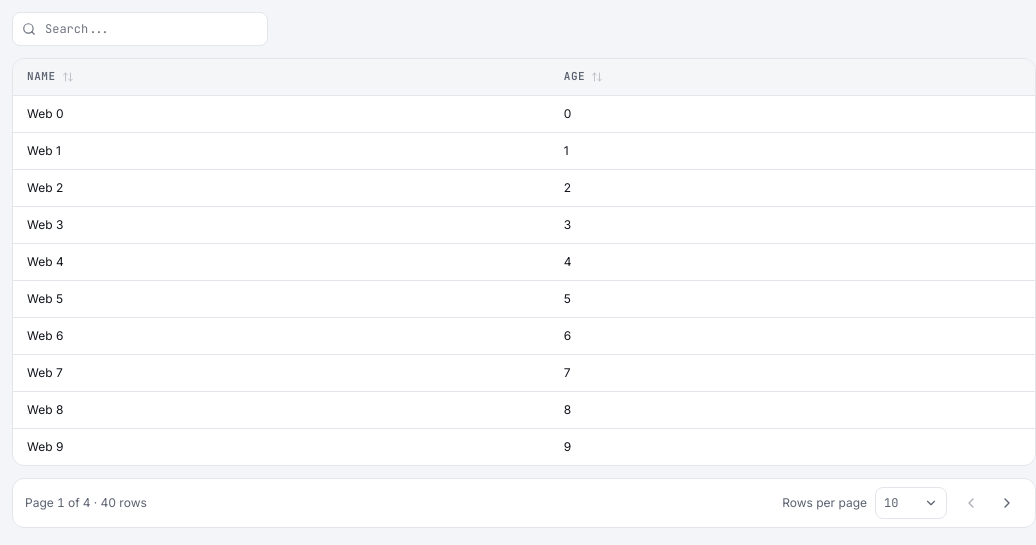
it: DataTable › reports the filtered row count, not the unfiltered total
Type "web" into the field with placeholder "Search...".
click(140, 29); type("web")  # box [12,12,268,46]
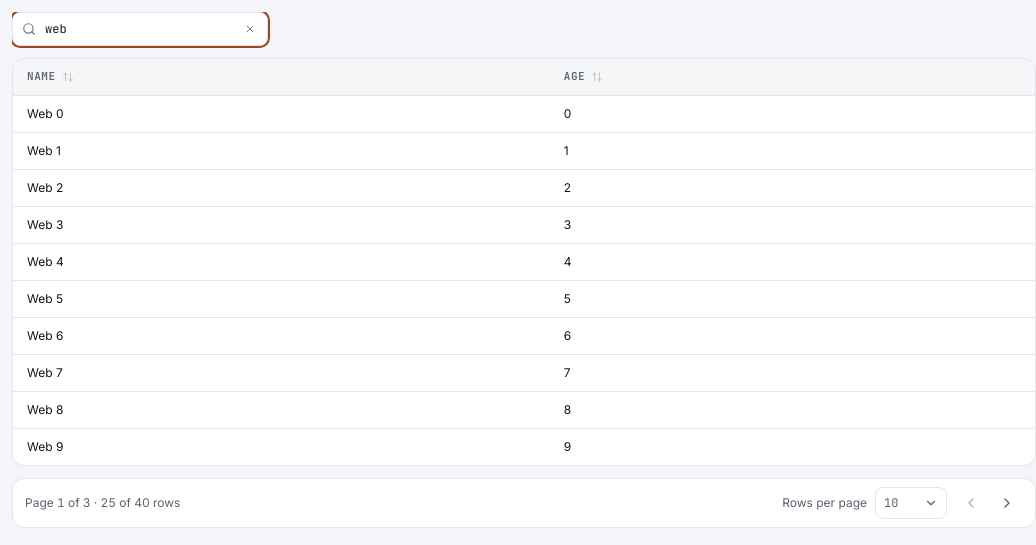
expect the text "Page 1 of 3 · 25 of 40 rows" is shown: met, box [25,495,180,511]
